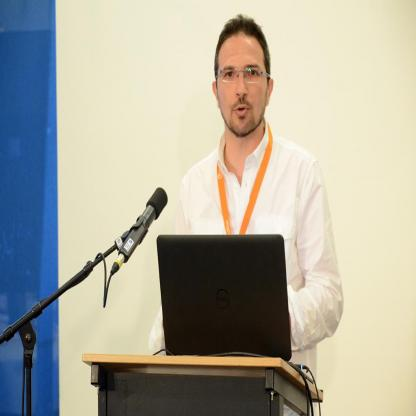board: (162, 234, 282, 362)
